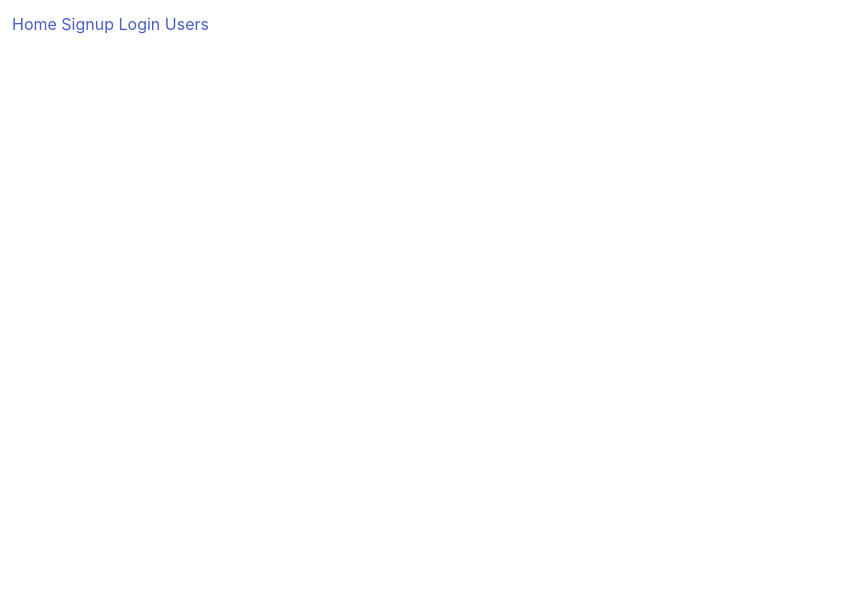
Scenario: App component › in Routing context › displays <Signup> after clicking route '/signup'
Click the link with test id "signup-link": (88, 24) 61,14 -> 114,34
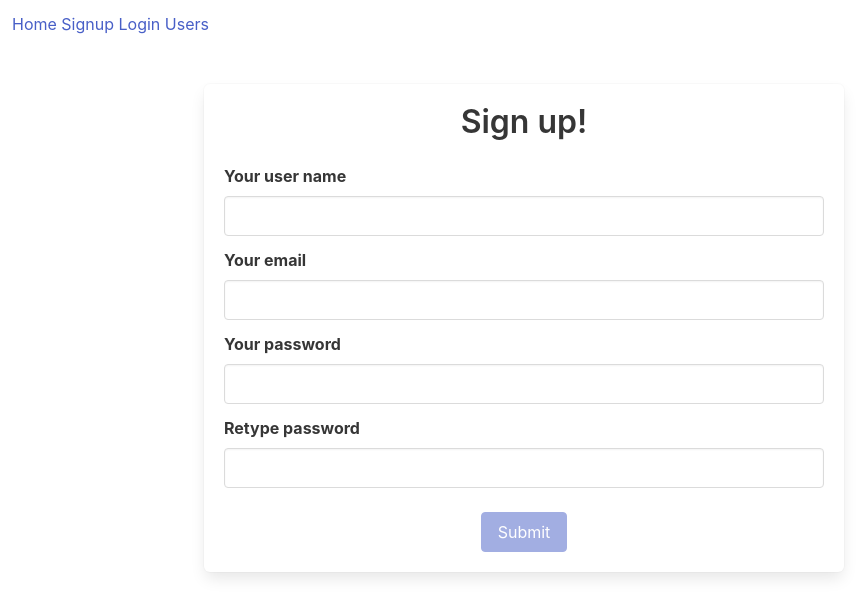
Check: the element with test id "signup-page" is shown
